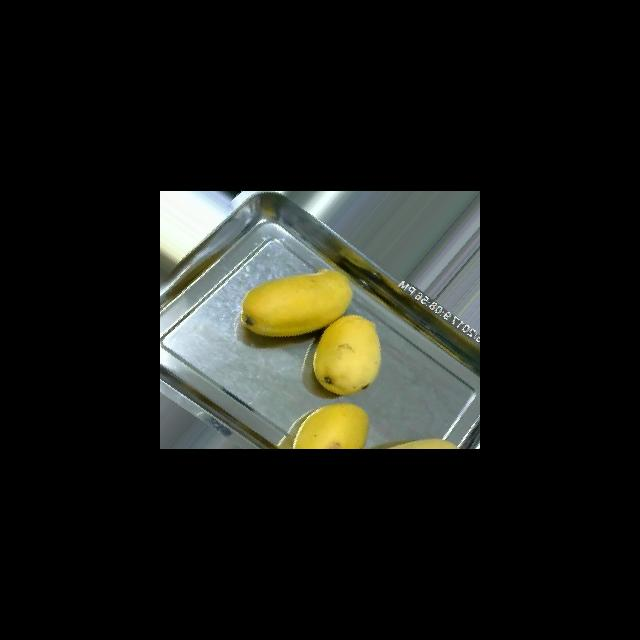Mango: (240, 268, 353, 337), (312, 314, 381, 395), (292, 402, 369, 448), (379, 437, 463, 448)
